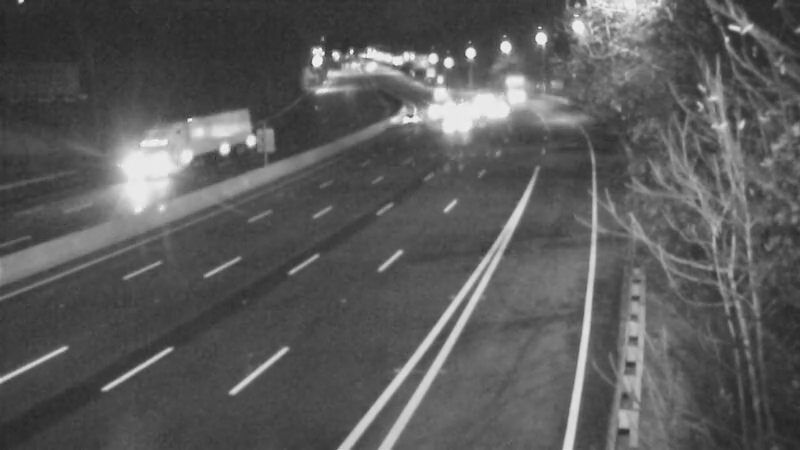vehicle: (147, 121, 227, 201), (487, 61, 537, 111), (454, 74, 504, 124), (415, 71, 465, 121), (466, 82, 516, 132), (438, 86, 488, 136), (429, 97, 479, 147), (383, 93, 433, 143)
